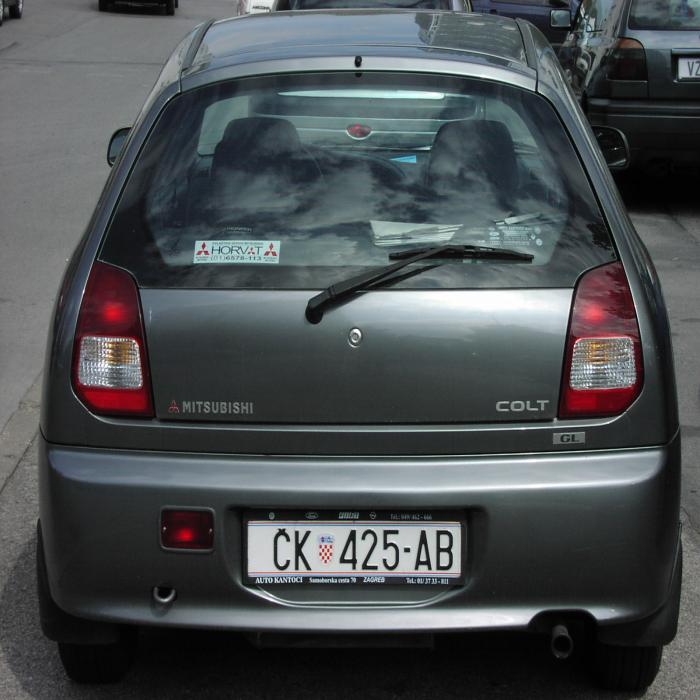number_plate: (245, 521, 462, 574)
